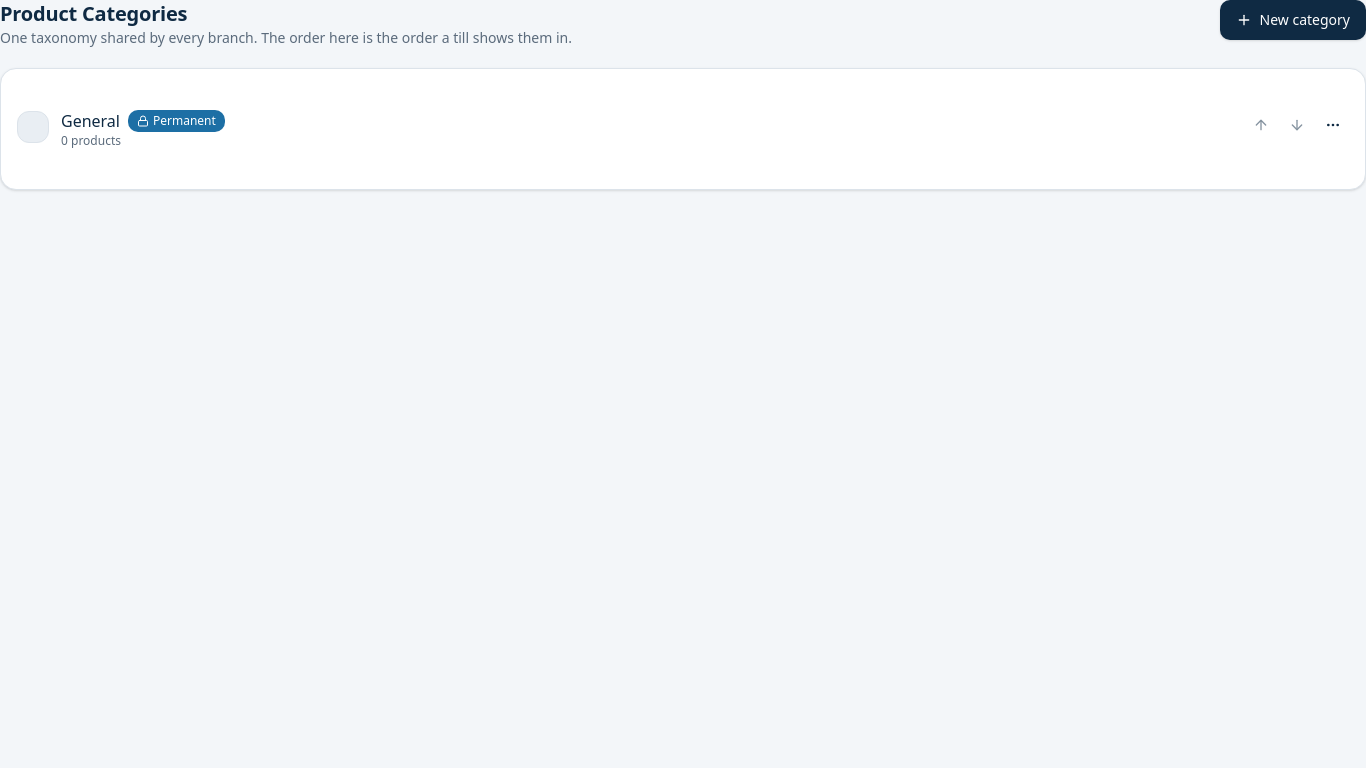
Test: the category dialog › refuses a malformed colour
Click the button "New category" at [1293, 20], box [1220,0,1365,40]
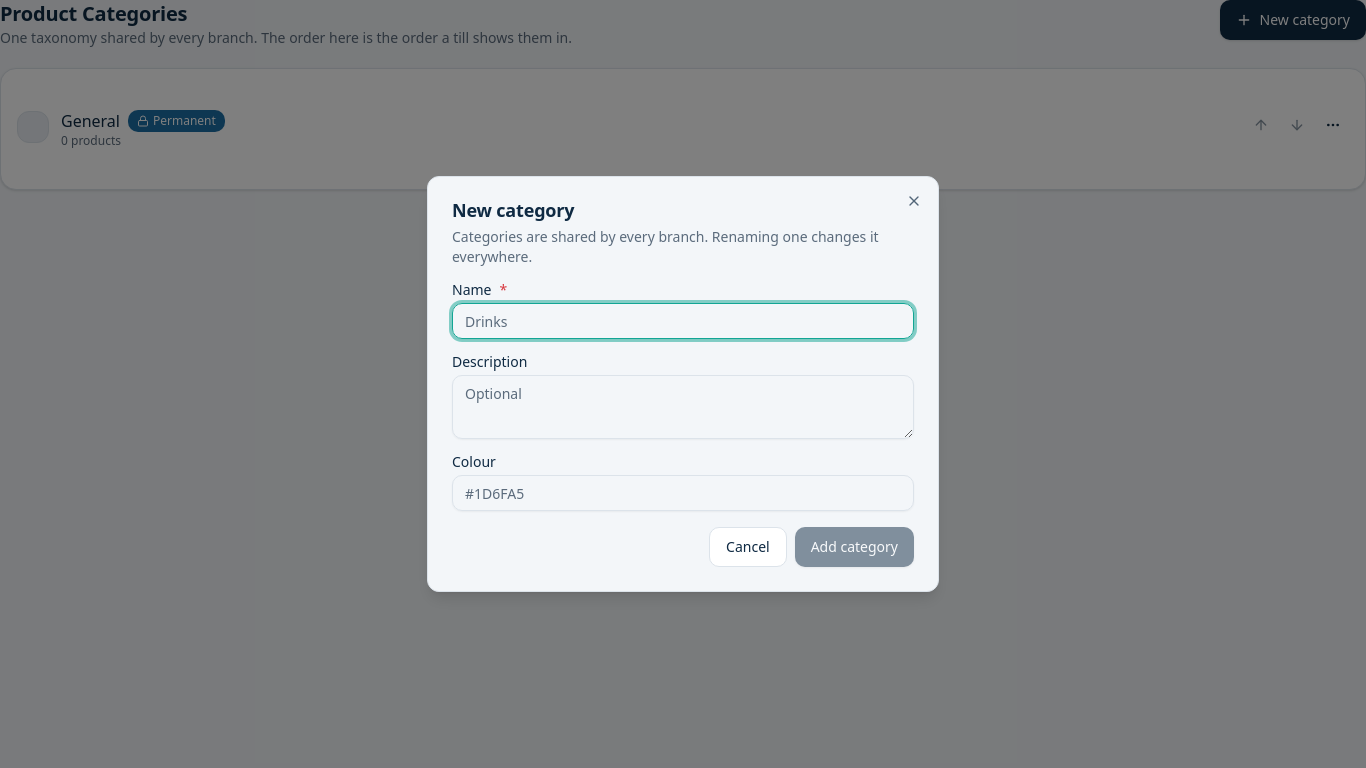
Type "Snacks" into the field labelled "Name *" at [683, 321], box [452,303,914,339]
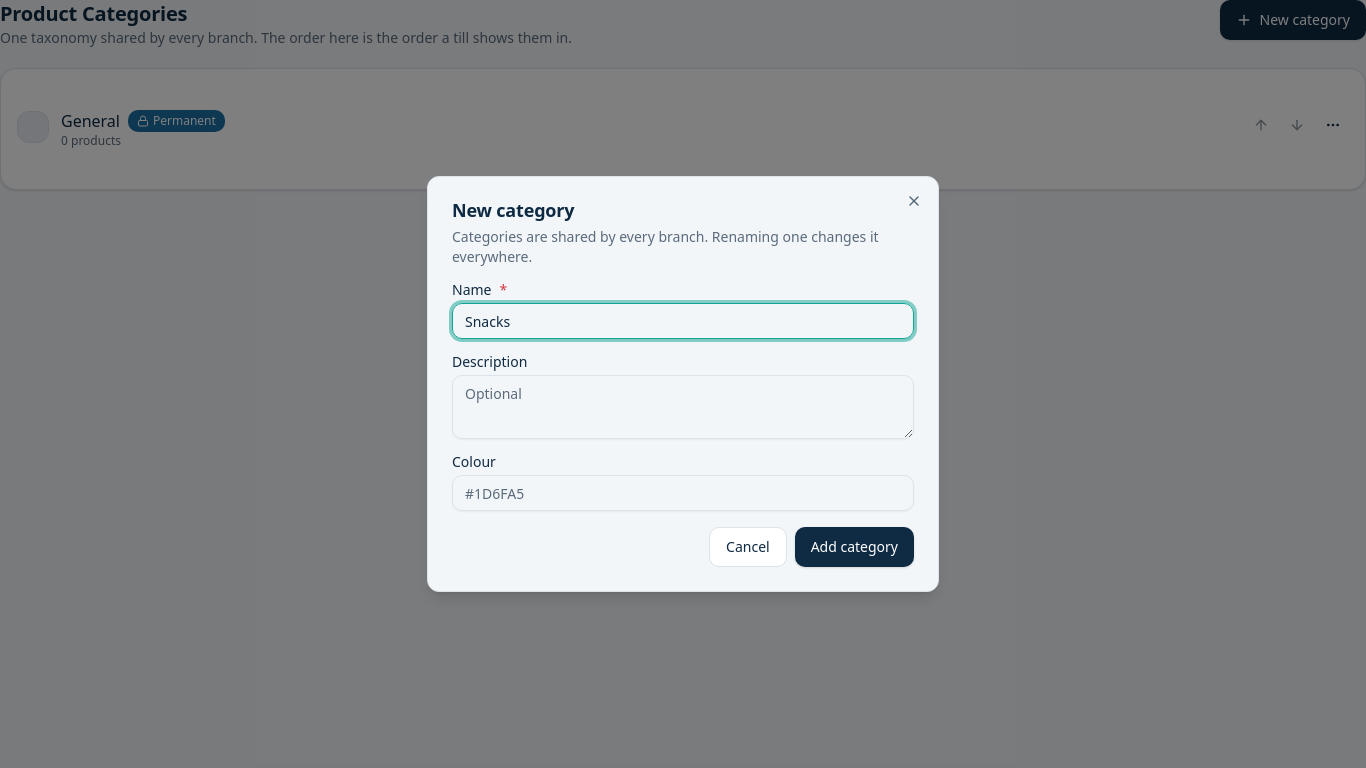
Type "blue" into the field labelled "Colour" at [683, 493], box [452,475,914,511]
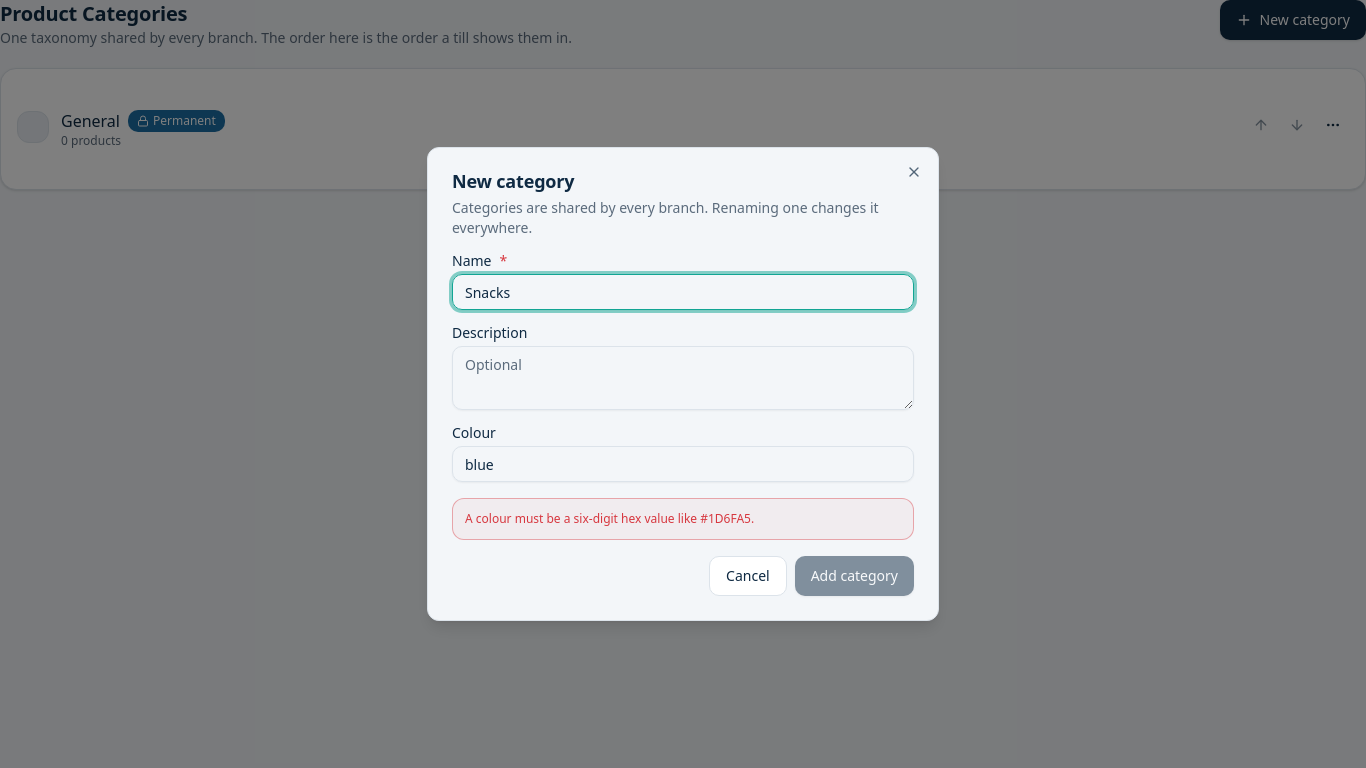
Now the list item "A colour must be a six-digit hex value like #1D6FA5." is shown, box [465,510,754,527]
